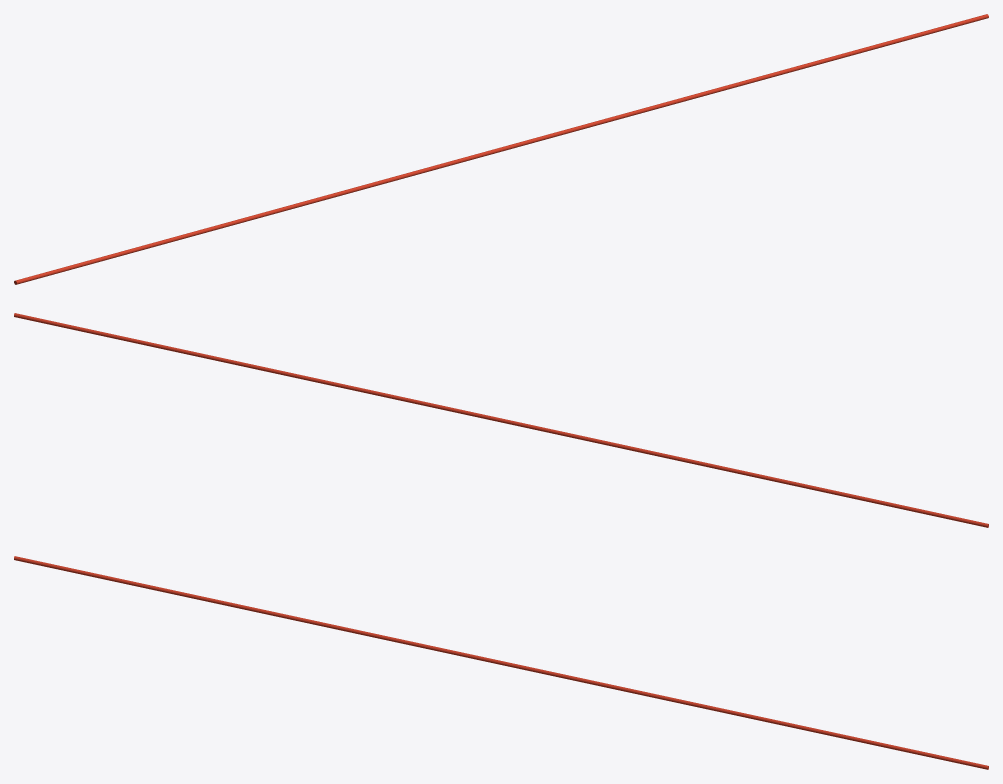
File: laser.fbx
3 renders of one model, top to bottom at view 1: azimuth 30°, elevation 25°; view 2: azimuth 150°, elevation 25°; view 3: azimuth 330°, elevation 25°, orthographic. The views are drawn at different scales.
Visible parts, largest first — view 1: Cylinder.004; view 2: Cylinder.004; view 3: Cylinder.004.
Part boxes in pixels (box(x1,y1,x2,y2)): Cylinder.004: box(14, 14, 988, 284); Cylinder.004: box(14, 313, 988, 527); Cylinder.004: box(14, 556, 988, 769).
Size of the model in its own units: 1200 by 5.14 by 65.76.
1 material, 1 textured.
